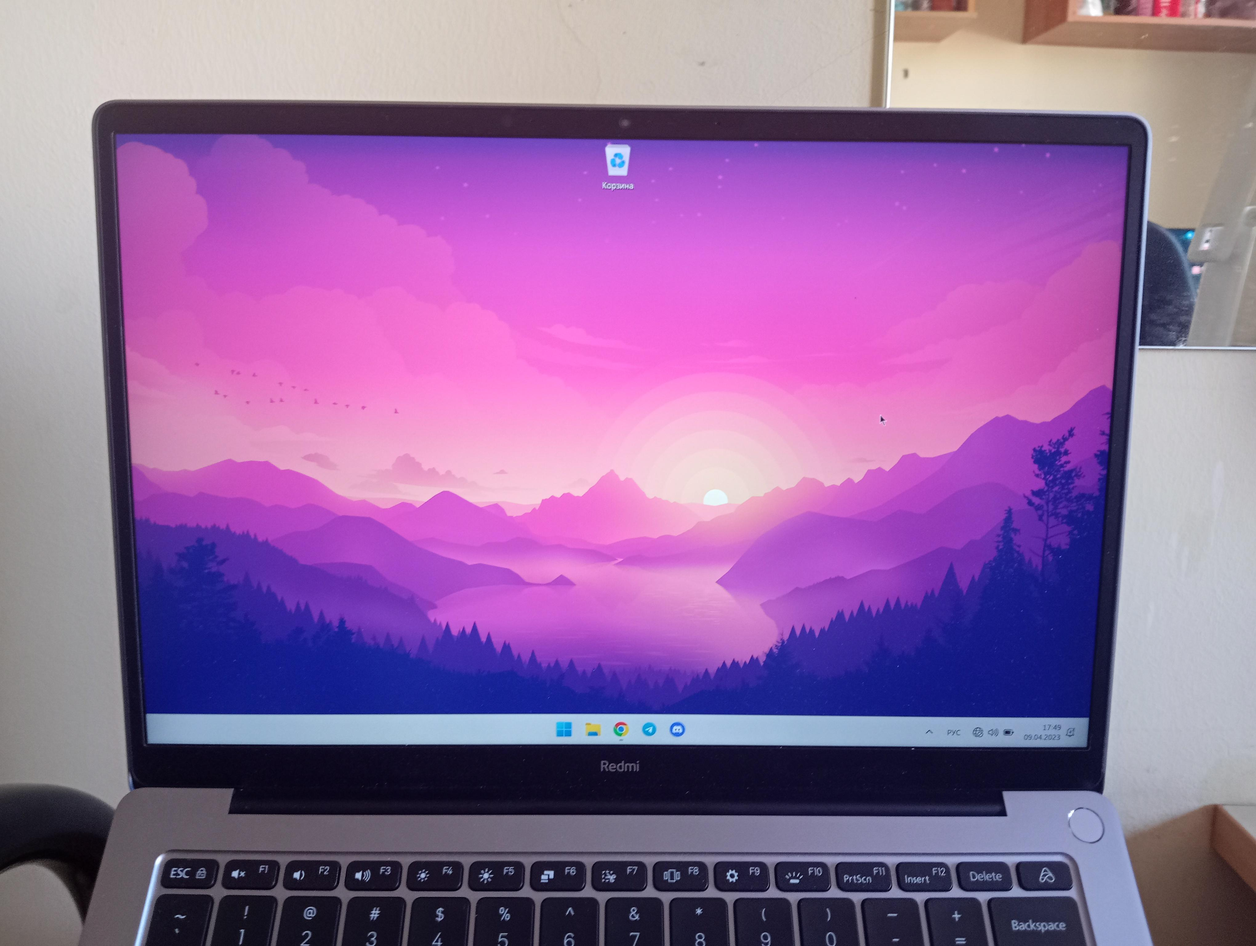monitor: (86, 92, 1159, 798)
